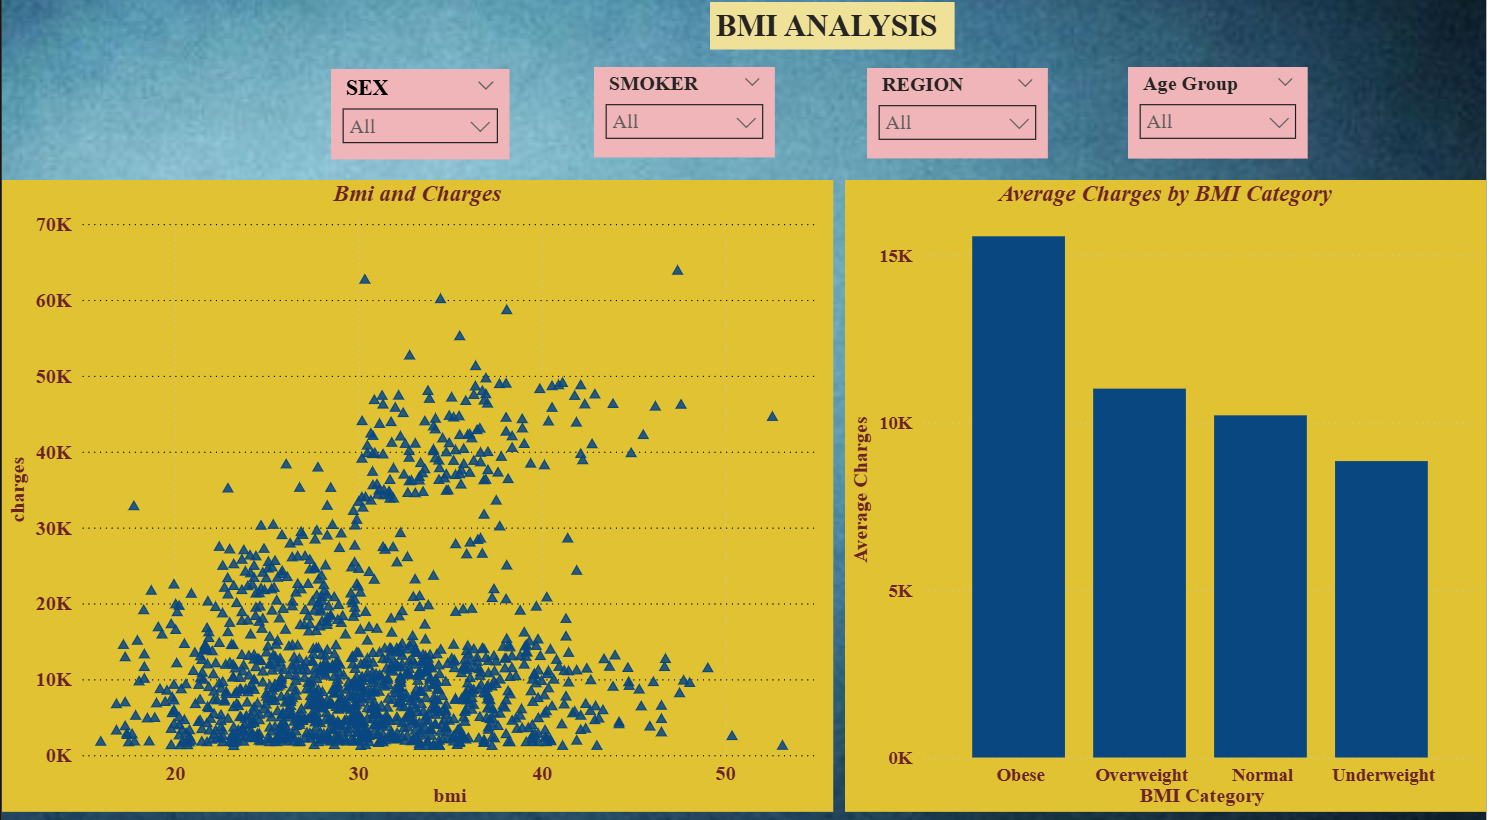

Layout of this report page (visuals, bound fields, positions):
{"tool":"powerbi","page":{"name":"Page 3","canvas":[1280,720],"ordinal":2},"visuals":[{"type":"textbox","box":[610.7,9.5,211.3,41.4],"z":0},{"type":"scatterChart","title":"Bmi and Charges","fields":{"X":["medical_insurance.bmi"],"Y":["medical_insurance.charges"]},"box":[0,163,716.8,545.1],"z":1},{"type":"clusteredColumnChart","fields":{"Category":["medical_insurance.BMI Category"],"Y":["medical_insurance.Average Charges"]},"box":[727.1,163,552.9,545.1],"z":2},{"type":"slicer","fields":{"Values":["medical_insurance.sex"]},"box":[283.8,67.3,153.5,77.6],"z":3},{"type":"slicer","fields":{"Values":["medical_insurance.smoker"]},"box":[510.6,65.6,156.1,77.6],"z":4},{"type":"slicer","fields":{"Values":["medical_insurance.region"]},"box":[746.1,66.4,156.1,78.5],"z":5},{"type":"slicer","fields":{"Values":["medical_insurance.Age Group"]},"box":[971.2,65.6,155.3,79.4],"z":6}]}

Visuals, with their boxes in screenshot pixels (x1, y1, x2, y2), scaled from the page's 1280x720 canvas onto the 1489x820 screenshot:
textbox: [710, 11, 956, 58]
"Bmi and Charges" scatterChart: [0, 186, 834, 806]
clusteredColumnChart - medical_insurance.BMI Category x medical_insurance.Average Charges: [846, 186, 1488, 806]
slicer - medical_insurance.sex: [330, 77, 509, 165]
slicer - medical_insurance.smoker: [594, 75, 776, 163]
slicer - medical_insurance.region: [868, 76, 1050, 165]
slicer - medical_insurance.Age Group: [1130, 75, 1310, 165]
